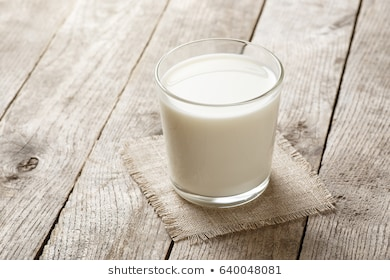glass of milk: (168, 46, 272, 207)
